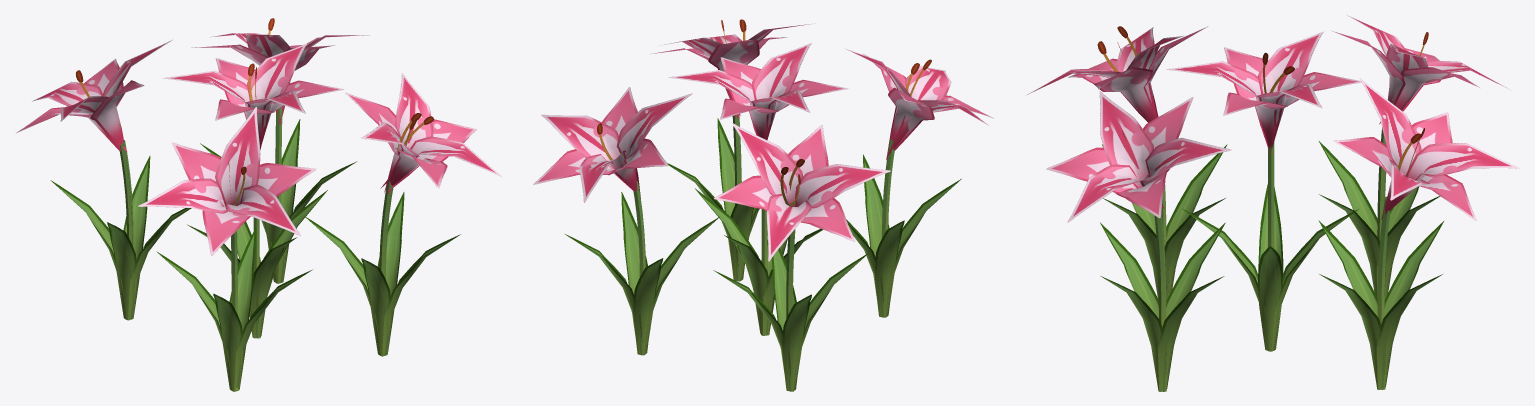
Rendered from 3D_Prop_Lilies.fbx.
3 views of the same model, side by side, from view 1: azimuth 30°, elevation 25°; view 2: azimuth 150°, elevation 25°; view 3: azimuth 270°, elevation 25° (orthographic). The views are drawn at different scales.
Visible parts, largest first — view 1: Plane019; view 2: Plane019; view 3: Plane019.
Part boxes in pixels (<box>): Plane019: <box>16,18,501,391</box>; Plane019: <box>533,19,993,391</box>; Plane019: <box>1027,15,1519,391</box>.
Size of the model in its own units: 128 by 97.9 by 147.
Materials: 1 (1 with a texture image).
